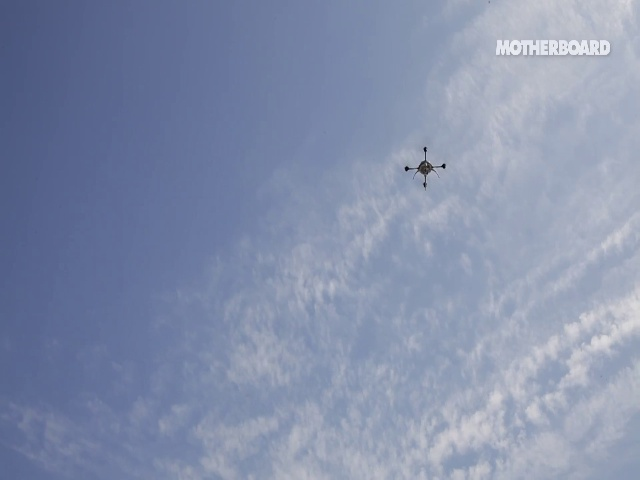drone: (398, 137, 454, 192)
